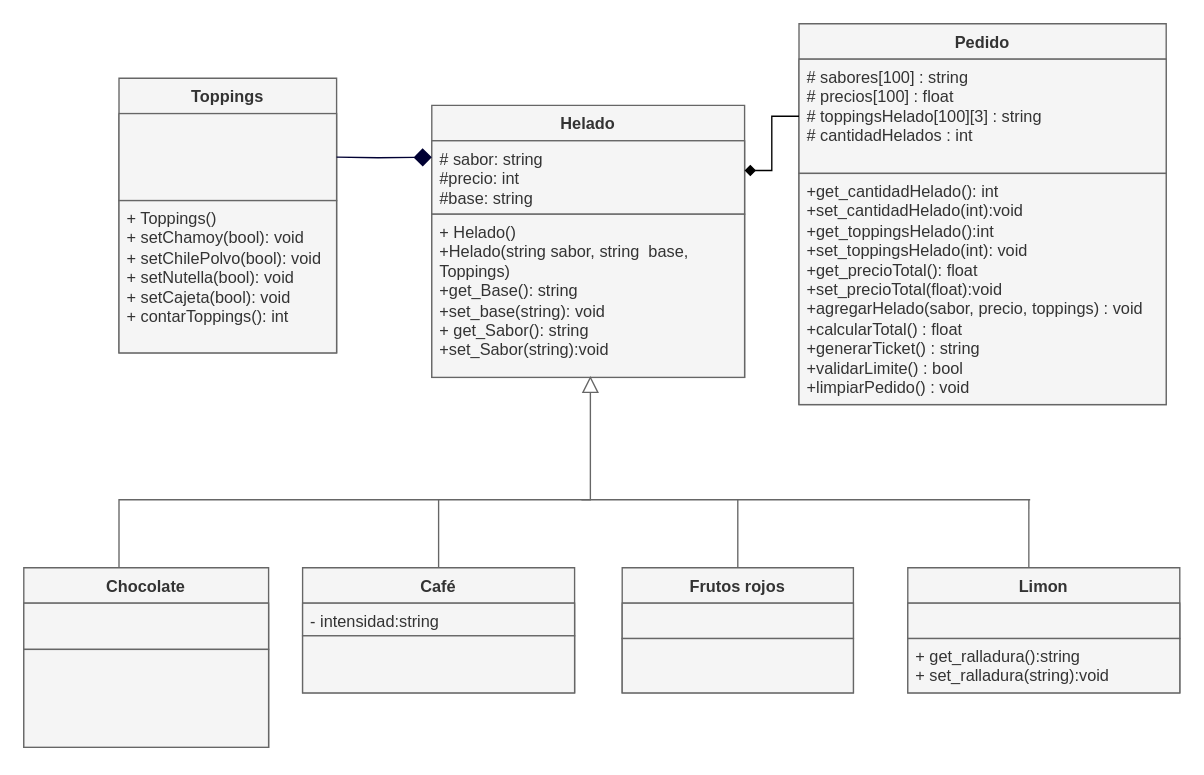
Some shapes in this 1204 by 775 pixel diagram are drawn without their labels. The centre of each missing label's shape, as x and y in pixels:
"+ get_fruta():string +set_fruta(string):void" belongs at (737,665).
"+ get_tipo_chocolate():string +set_tipo_chocolate(string):void" belongs at (145,697).
"+get_intensidad():string + set_intensidad(string):void" belongs at (438,663).
"- chamoy:bool -chile_polvo:bool -nutella:bool -cajeta:bool" belongs at (227,156).
"- fruta:string" belongs at (737,620).
"- ralladura:string" belongs at (1043,620).
"- tipo_chocolates:string" belongs at (145,625).
